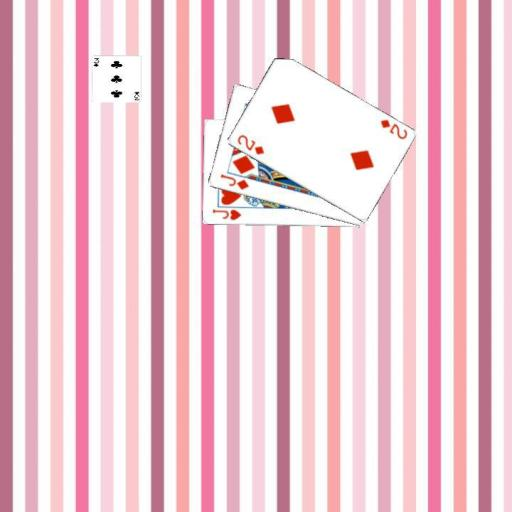2D: (377, 116, 409, 141), (234, 132, 265, 157)
JD: (217, 171, 250, 191)
JH: (209, 206, 243, 222)
